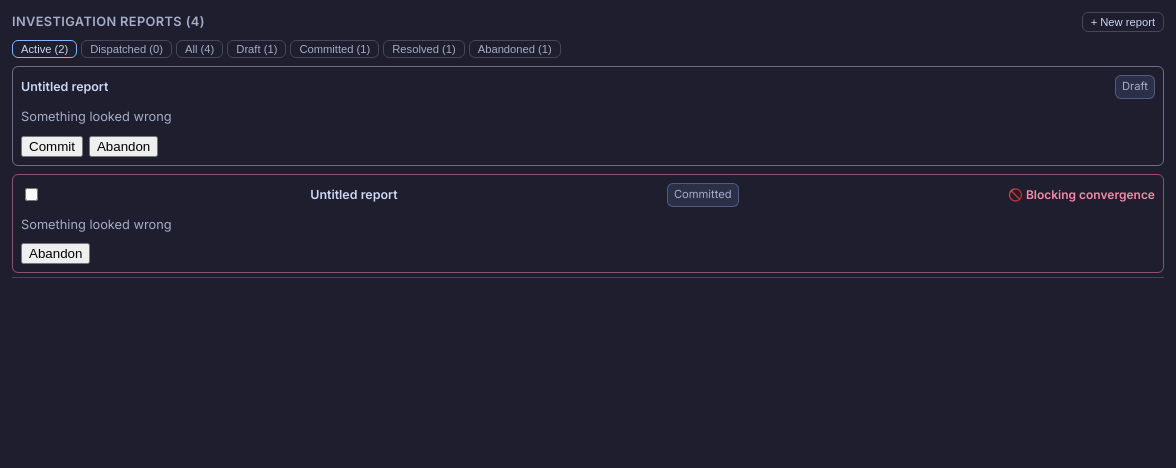
Test case: InvestigationReportSection — state filter › All and per-state tabs continue to work
Expected: the element with test id "report-card-r-draft" is shown, [12,66,1164,166]
Click the button with test id "report-filter-all" at (200, 50), box [176,40,223,58]
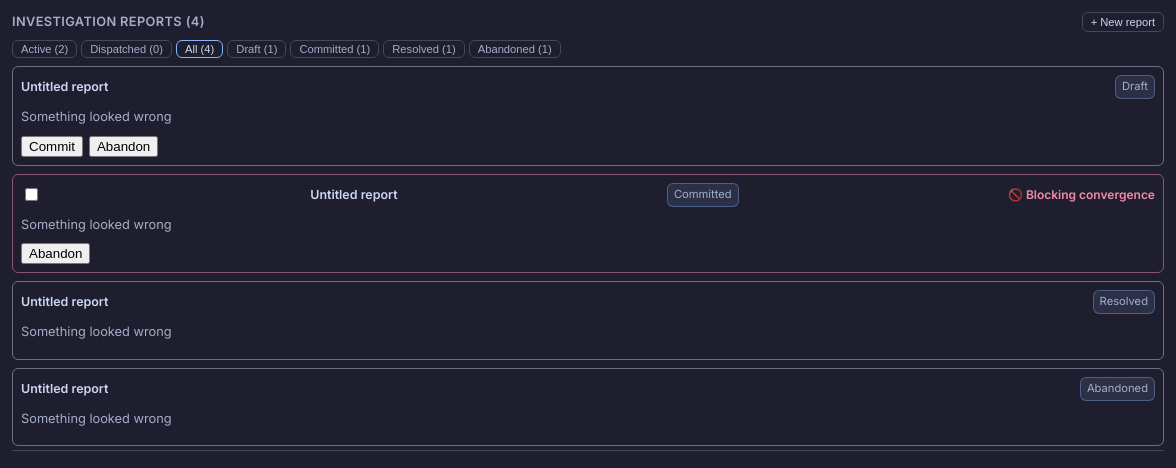
Expected: the element with test id "report-card-r-draft" is shown, [12,66,1164,166]
Expected: the element with test id "report-card-r-resolved" is shown, [12,281,1164,360]
Expected: the element with test id "report-card-r-abandoned" is shown, [12,368,1164,446]
Click the button with test id "report-filter-resolved" at (424, 50), box [383,40,465,58]
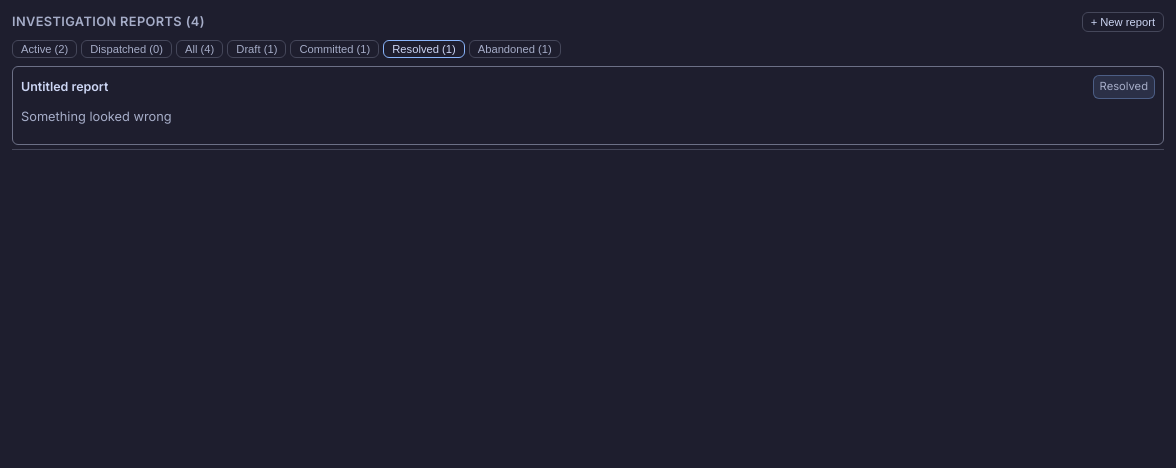
Expected: the element with test id "report-card-r-resolved" is shown, [12,66,1164,145]
Expected: the element with test id "report-card-r-draft" is gone
Click the button with test id "report-filter-abandoned" at (515, 50), box [469,40,561,58]
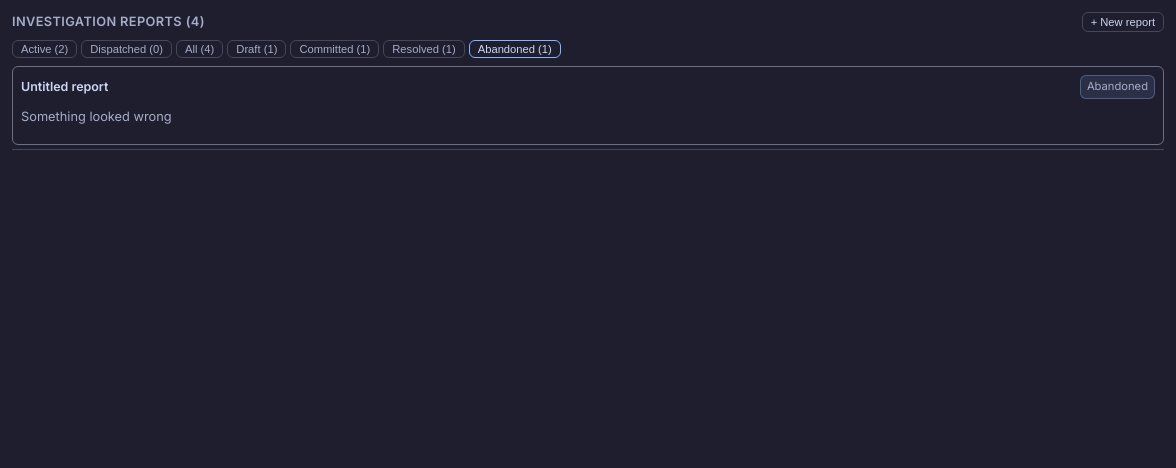
Expected: the element with test id "report-card-r-resolved" is gone
Expected: the element with test id "report-card-r-abandoned" is shown, [12,66,1164,145]
Click the button with test id "report-filter-draft" at (257, 50), box [227,40,286,58]
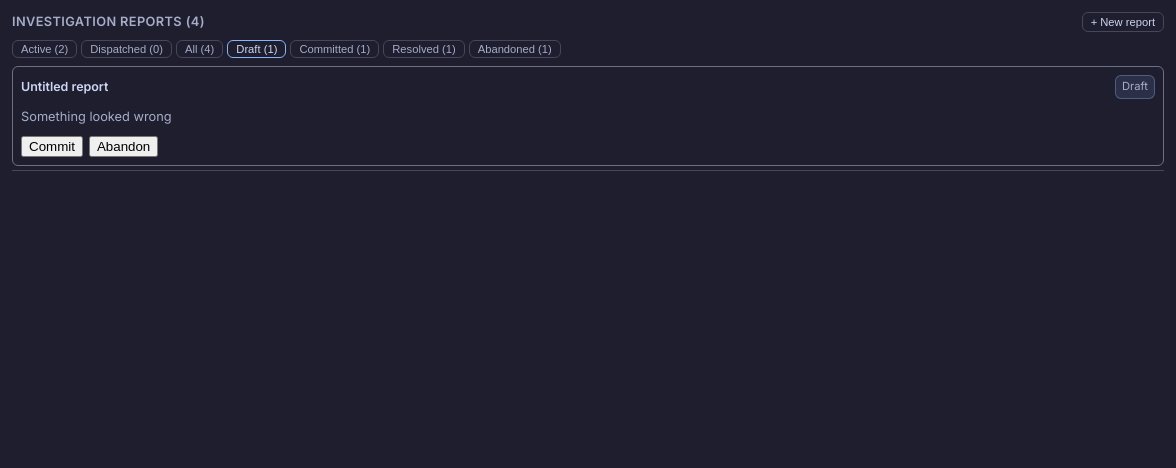
Expected: the element with test id "report-card-r-draft" is shown, [12,66,1164,166]
Expected: the element with test id "report-card-r-abandoned" is gone
Click the button with test id "report-filter-committed" at (335, 50), box [290,40,379,58]
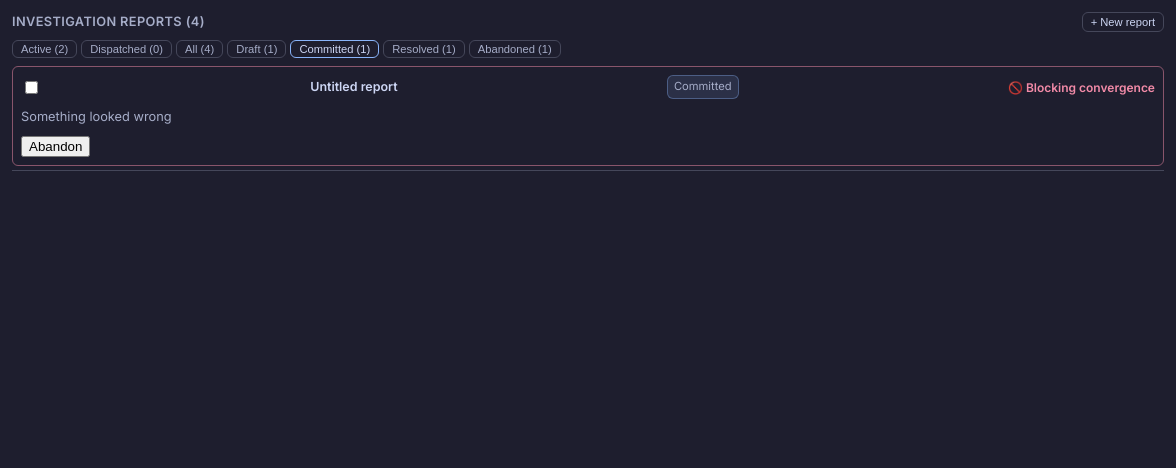
Expected: the element with test id "report-card-r-committed" is shown, [12,66,1164,166]
Expected: the element with test id "report-card-r-draft" is gone
